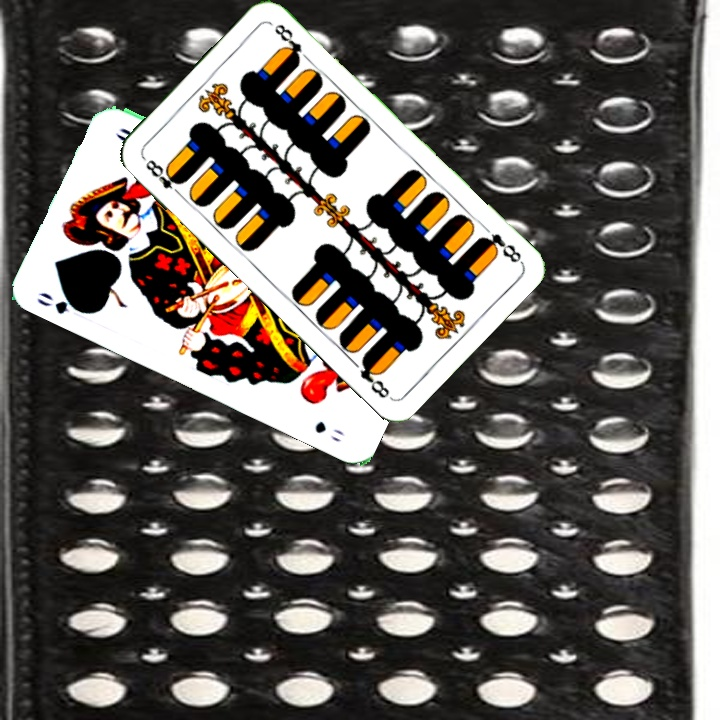E8: (139, 153, 186, 200), (475, 229, 524, 266)
GO: (32, 288, 91, 317)
